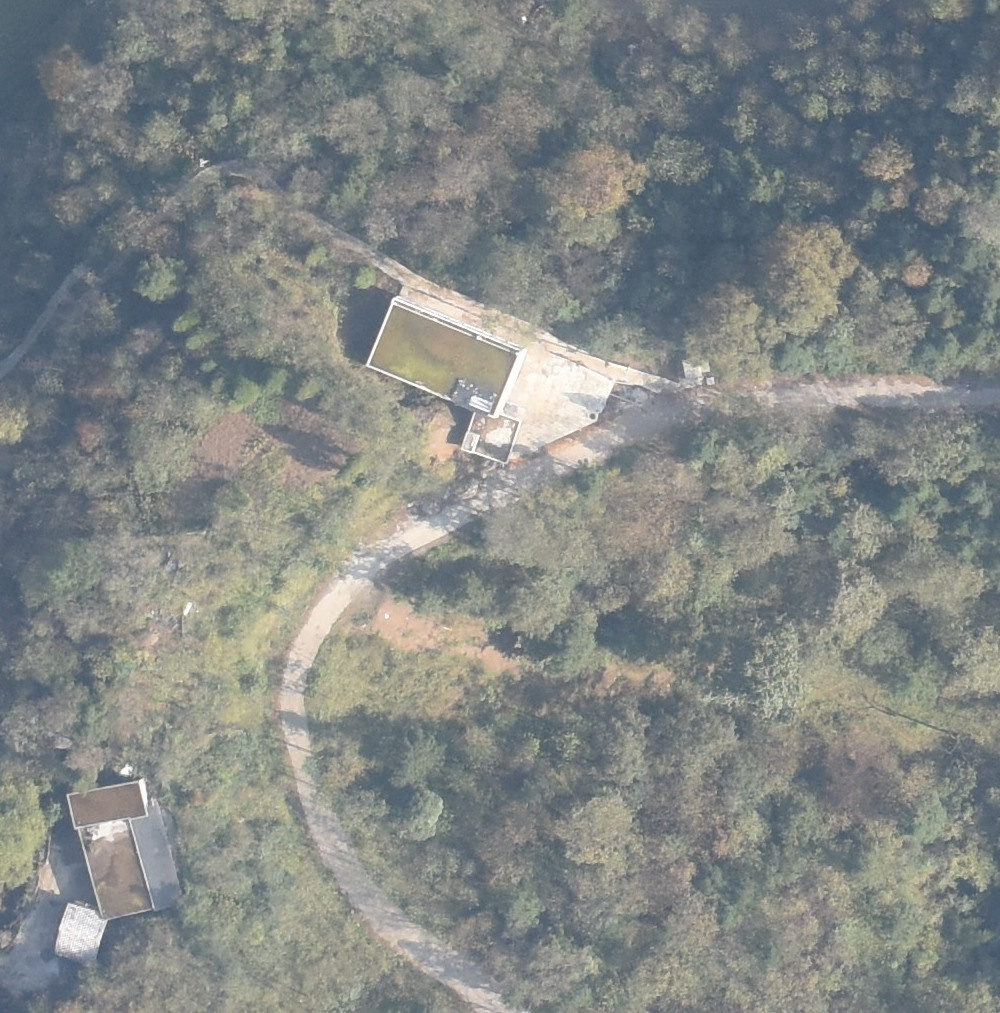building: (366, 294, 526, 418), (77, 819, 157, 919), (66, 779, 149, 830), (54, 903, 111, 968), (460, 409, 521, 465)
